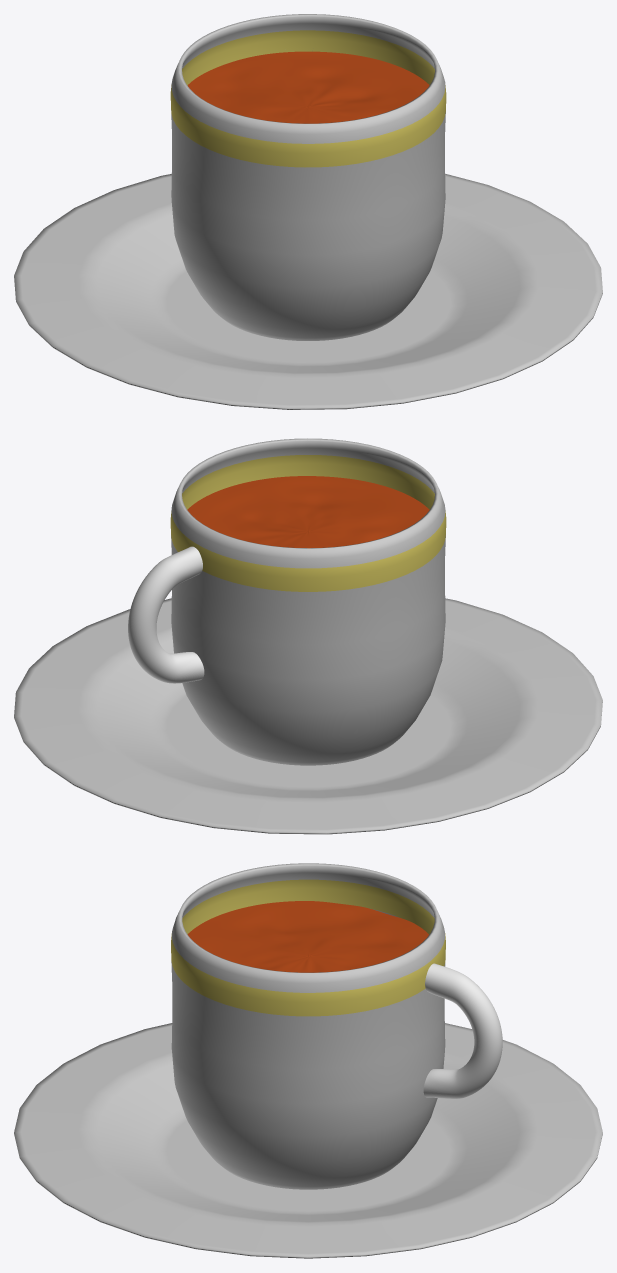
The model's file is Xicrinha.fbx.
3 views of the same model, one above another, from view 1: azimuth 30°, elevation 25°; view 2: azimuth 150°, elevation 25°; view 3: azimuth 270°, elevation 25° (orthographic).
Parts seen in each view (by area): view 1: Pires, Xícara, Circle.001; view 2: Pires, Xícara, Circle.001, Torus.001; view 3: Pires, Xícara, Circle.001, Torus.001.
Part boxes in pixels (<box>): Pires: <box>14,173,602,409</box>; Xícara: <box>170,14,446,340</box>; Circle.001: <box>187,51,429,123</box>; Pires: <box>14,598,602,834</box>; Xícara: <box>170,438,446,765</box>; Circle.001: <box>187,476,429,548</box>; Torus.001: <box>128,546,204,683</box>; Pires: <box>14,1023,602,1258</box>; Xícara: <box>171,863,445,1189</box>; Circle.001: <box>187,901,428,972</box>; Torus.001: <box>423,963,502,1098</box>.
Size of the model in its own units: 110 by 48.3 by 110.
